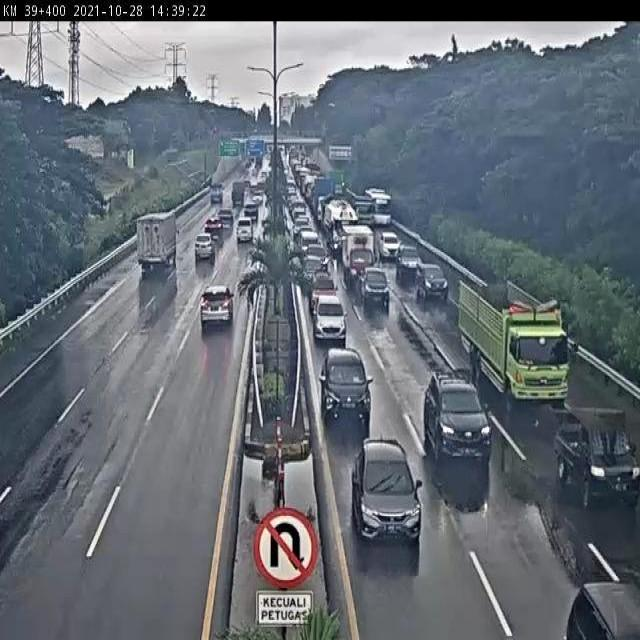car: (352, 436, 421, 539), (423, 371, 493, 457), (321, 349, 373, 423), (200, 287, 237, 325), (315, 291, 344, 336), (415, 264, 449, 301), (309, 273, 339, 308), (363, 268, 391, 300), (395, 244, 420, 276), (193, 235, 217, 261), (202, 218, 224, 246), (304, 257, 325, 284), (234, 219, 255, 244), (305, 244, 328, 265)
mid truck: (457, 271, 571, 405), (136, 211, 176, 273)
small truck: (556, 410, 639, 506), (340, 222, 374, 278)
